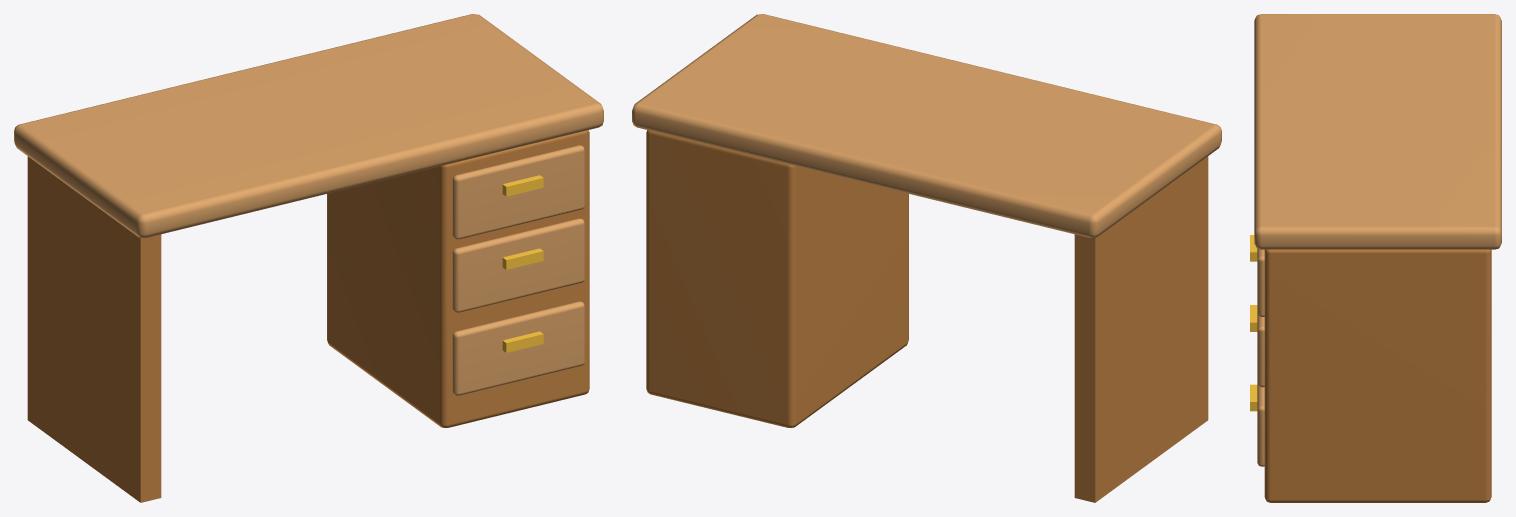
Rendered from Desk.fbx.
3 views of the same model, side by side, from view 1: azimuth 30°, elevation 25°; view 2: azimuth 150°, elevation 25°; view 3: azimuth 270°, elevation 25° (orthographic). The views are drawn at different scales.
Visible parts, largest first — view 1: Desk; view 2: Desk; view 3: Desk.
Boxes of the visible parts, x1,y1,x2,y2 form: Desk: [14, 14, 603, 502]; Desk: [632, 14, 1221, 502]; Desk: [1250, 14, 1501, 502].
Bounding box in the file's own units: 5 × 3 × 2.44.
Materials: 1 (1 with a texture image).
